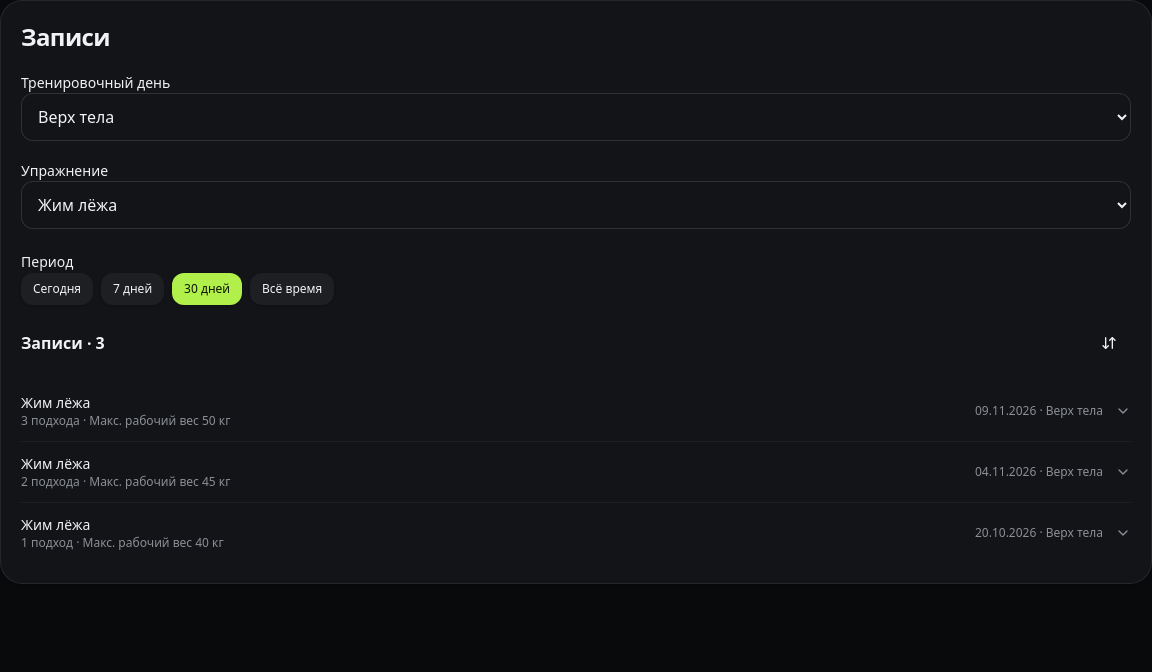
Test: selects a day and exercise and displays the exercise diary
expect the dropdown named "День записей" shows "Верх тела": met, box [21,93,1131,141]
expect the dropdown named "Упражнение записей" shows "Жим лёжа": met, box [21,181,1131,229]
Click the 6th button.
click(56, 402)  # box [21,385,1131,437]
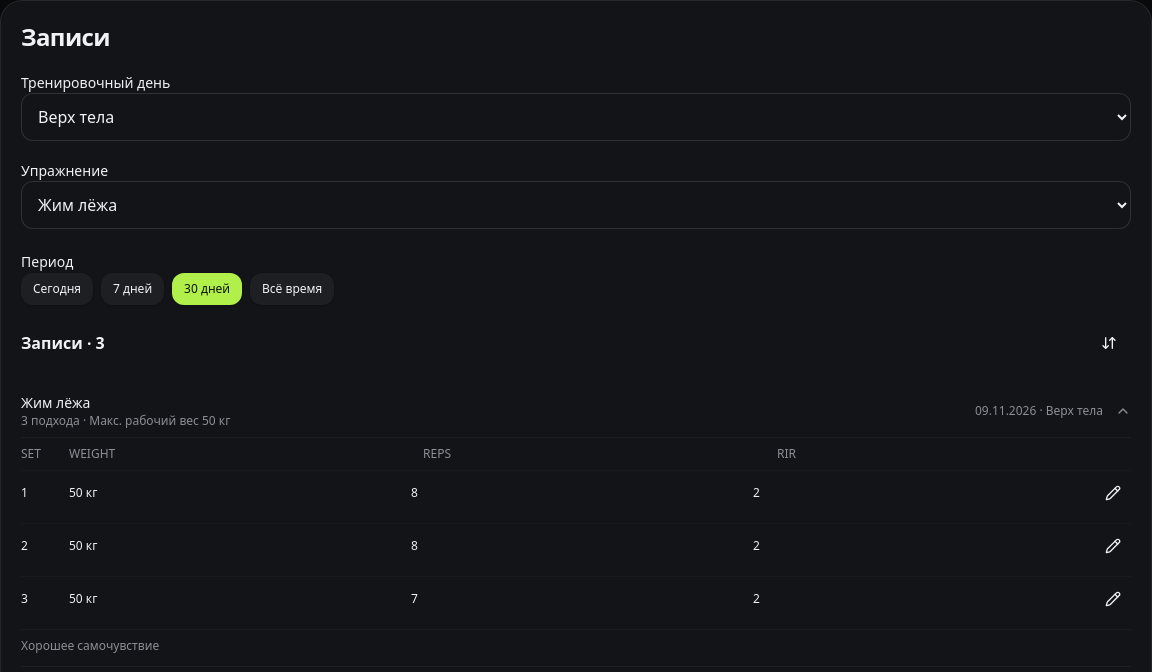
expect the 1st list item shows "RIR": met, box [777,445,796,462]
expect the text "Хорошее самочувствие" is shown: met, box [21,629,1131,662]
Select "Ноги" in the dropdown named "День записей" at point(576, 117), box [21,93,1131,141]
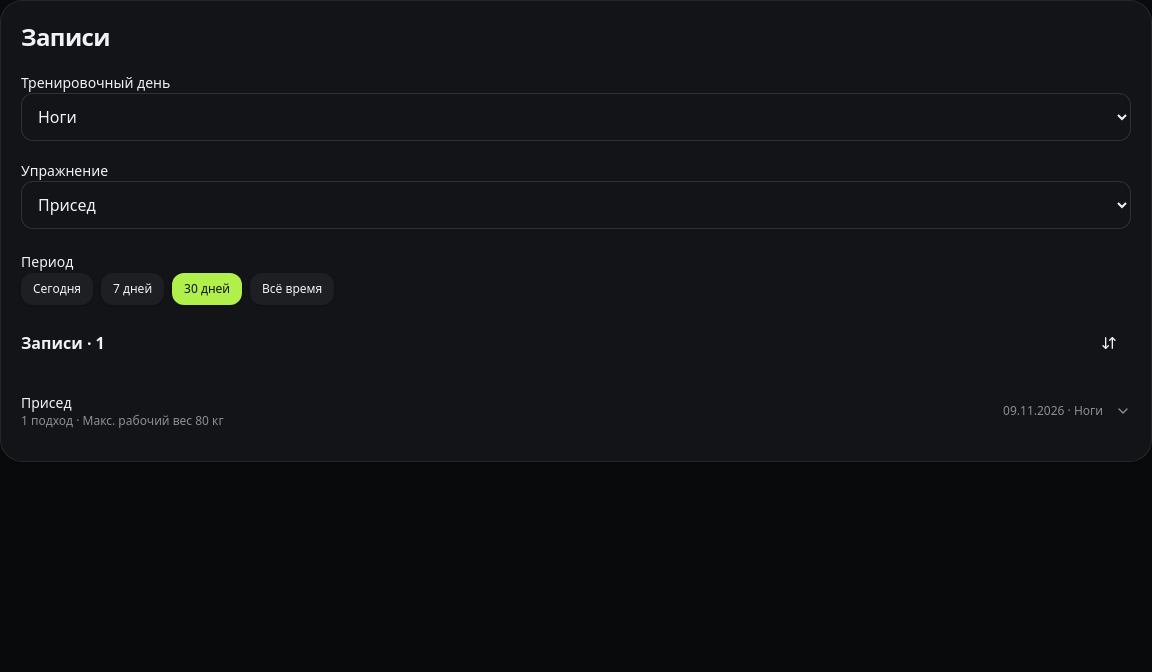
expect the dropdown named "Упражнение записей" shows "Присед": met, box [21,181,1131,229]
expect the list item "Присед 1 подход · Макс. рабочий вес 80 кг 09.11.2026 · Ноги" is shown: met, box [21,381,1131,441]
